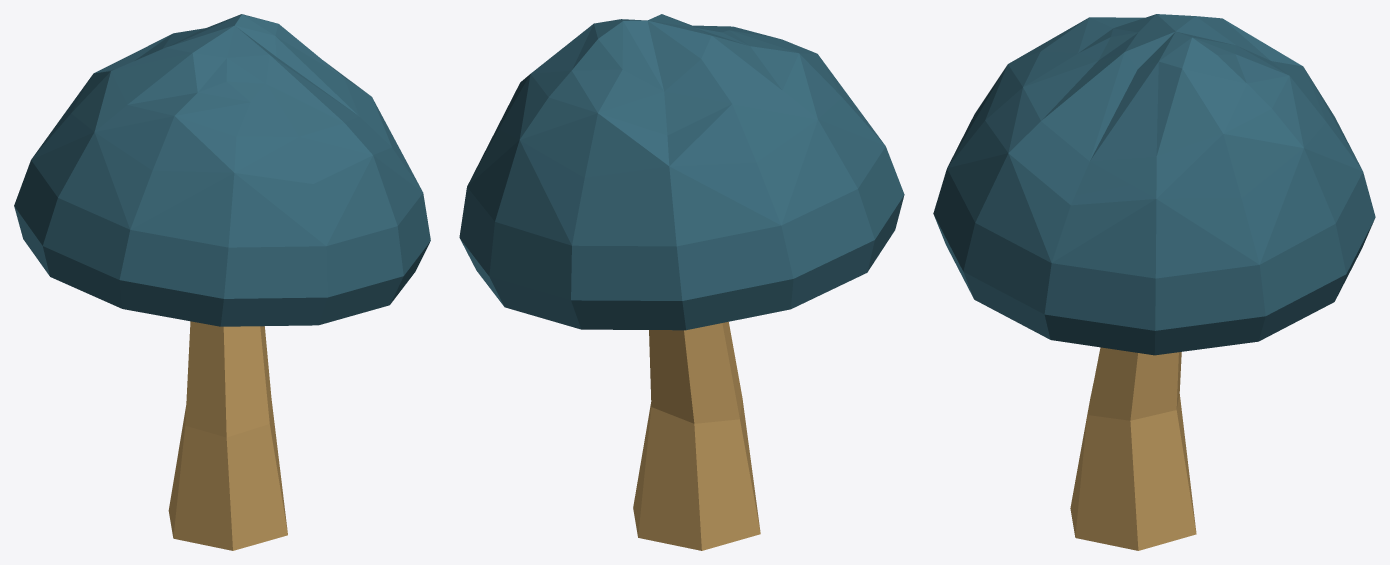
The model's file is Mushroom_2.fbx.
3 views of the same model, side by side, from view 1: azimuth 30°, elevation 25°; view 2: azimuth 150°, elevation 25°; view 3: azimuth 270°, elevation 25° (orthographic). The views are drawn at different scales.
Visible parts, largest first — view 1: Mushroom_2; view 2: Mushroom_2; view 3: Mushroom_2.
Boxes of the visible parts, x1=… form: Mushroom_2: x1=14, y1=14, x2=430, y2=550; Mushroom_2: x1=459, y1=14, x2=904, y2=550; Mushroom_2: x1=933, y1=14, x2=1375, y2=550.
Size of the model in its own units: 36.38 by 46.13 by 36.61.
